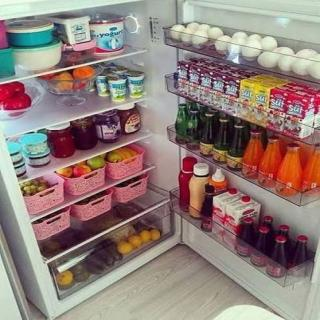Egg: (263, 36, 320, 78), (218, 24, 266, 62), (165, 17, 218, 48)
Juice: (279, 140, 303, 198)
Milk: (224, 188, 262, 218)
